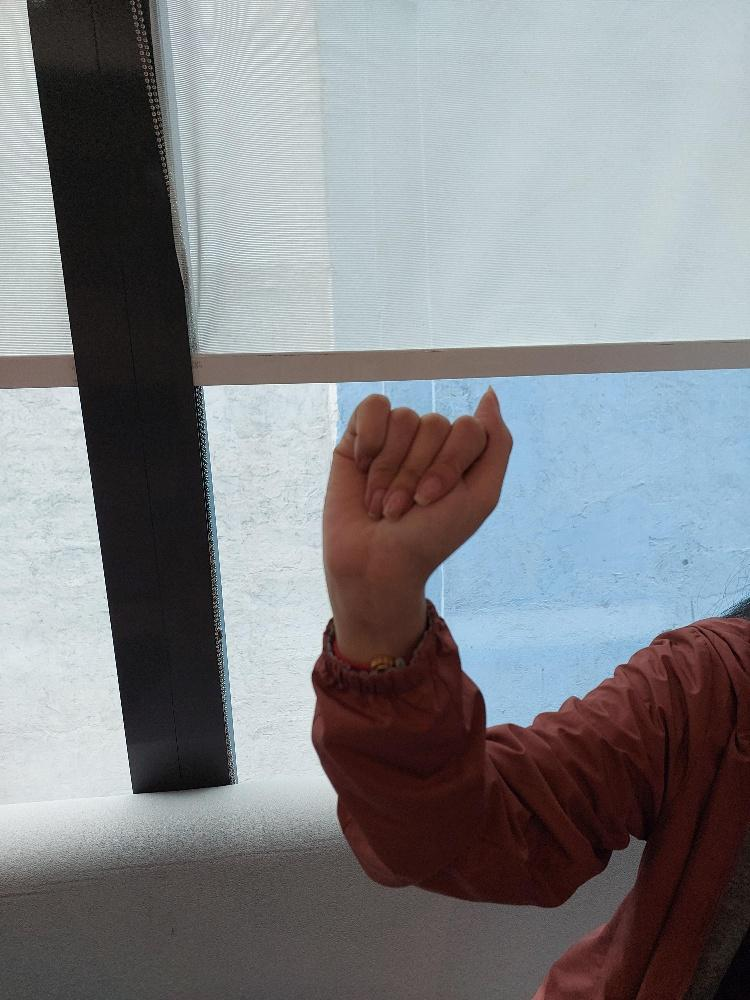a: (319, 381, 514, 584)
